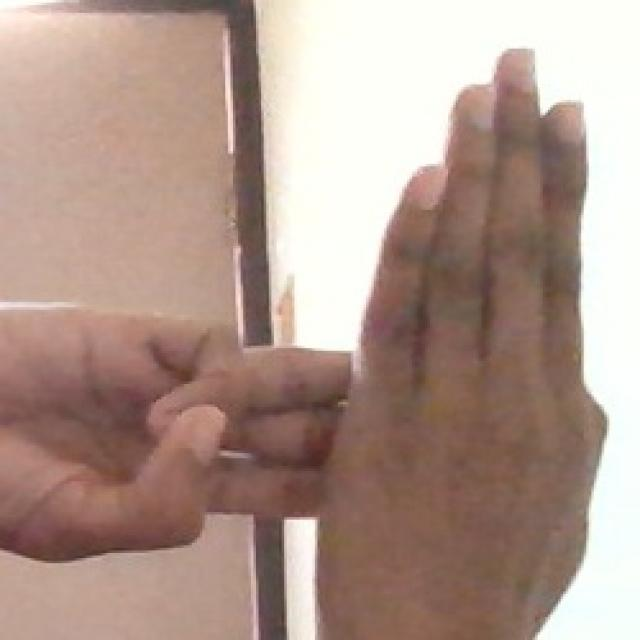Alphabet-M: (0, 55, 640, 640)
